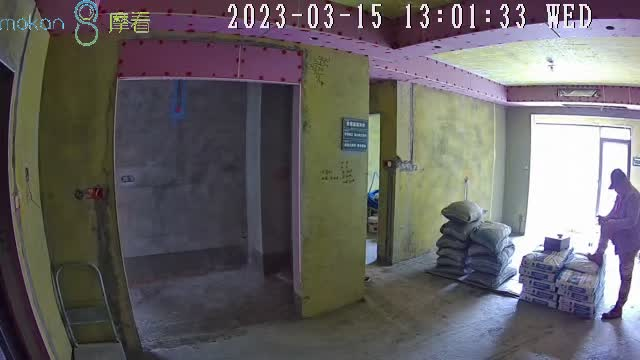people: (587, 168, 640, 319)
window: (530, 116, 632, 242)
